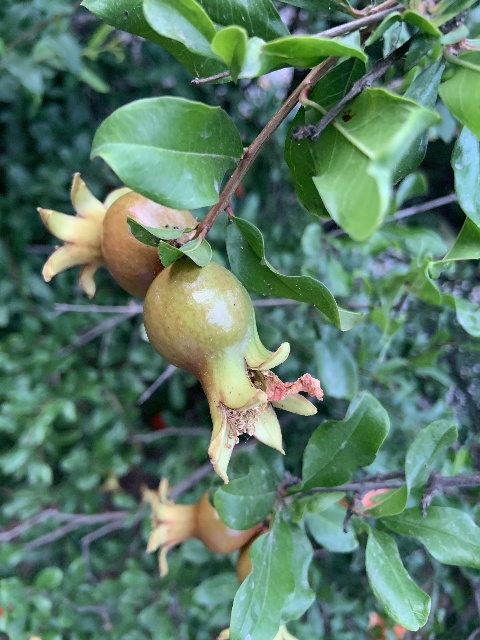early-fruit: (143, 259, 324, 486), (37, 173, 179, 299), (142, 477, 263, 579)
